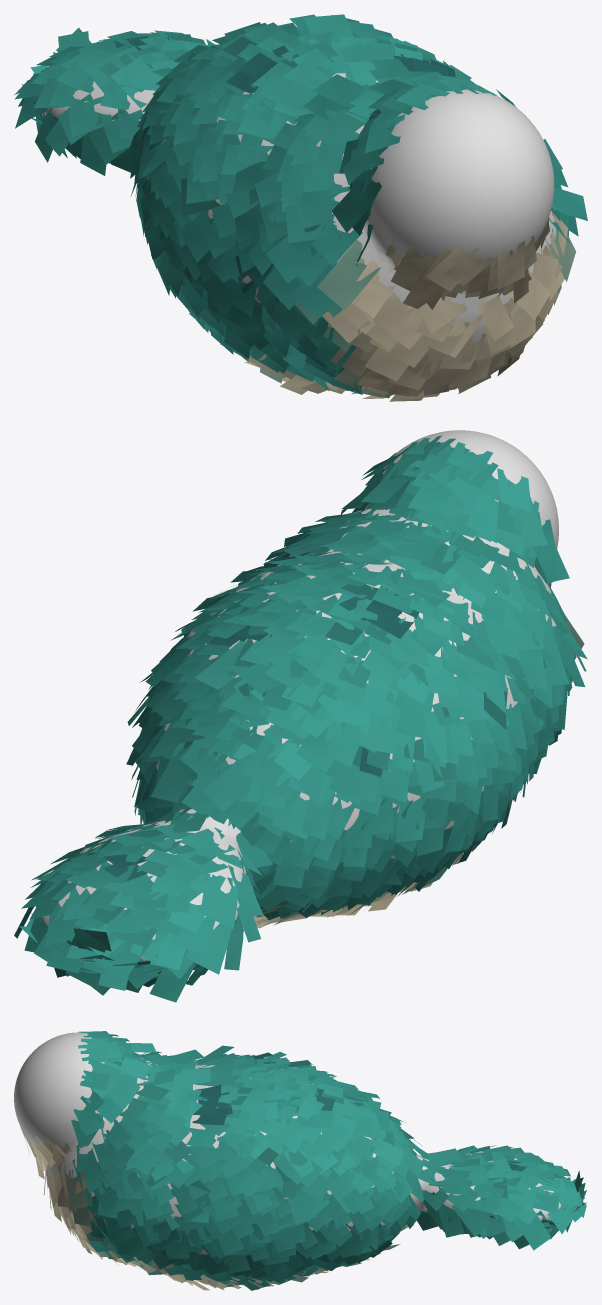
Rendered from standin.glb.
The picture shows the model from 3 angles, top to bottom: view 1: azimuth 30°, elevation 25°; view 2: azimuth 150°, elevation 25°; view 3: azimuth 270°, elevation 25°; orthographic projection. The views are drawn at different scales.
Parts seen in each view (by area): view 1: lo_cards_torso, lo_torso; view 2: lo_cards_torso, lo_torso; view 3: lo_cards_torso, lo_torso.
Part boxes in pixels (bbox=[...]): lo_cards_torso: bbox=[14, 14, 587, 401]; lo_torso: bbox=[41, 73, 556, 360]; lo_cards_torso: bbox=[14, 435, 587, 1002]; lo_torso: bbox=[36, 430, 558, 960]; lo_cards_torso: bbox=[19, 1031, 586, 1290]; lo_torso: bbox=[14, 1032, 560, 1254].
Bounding box in the file's own units: 0.5815 × 0.6072 × 1.3.
